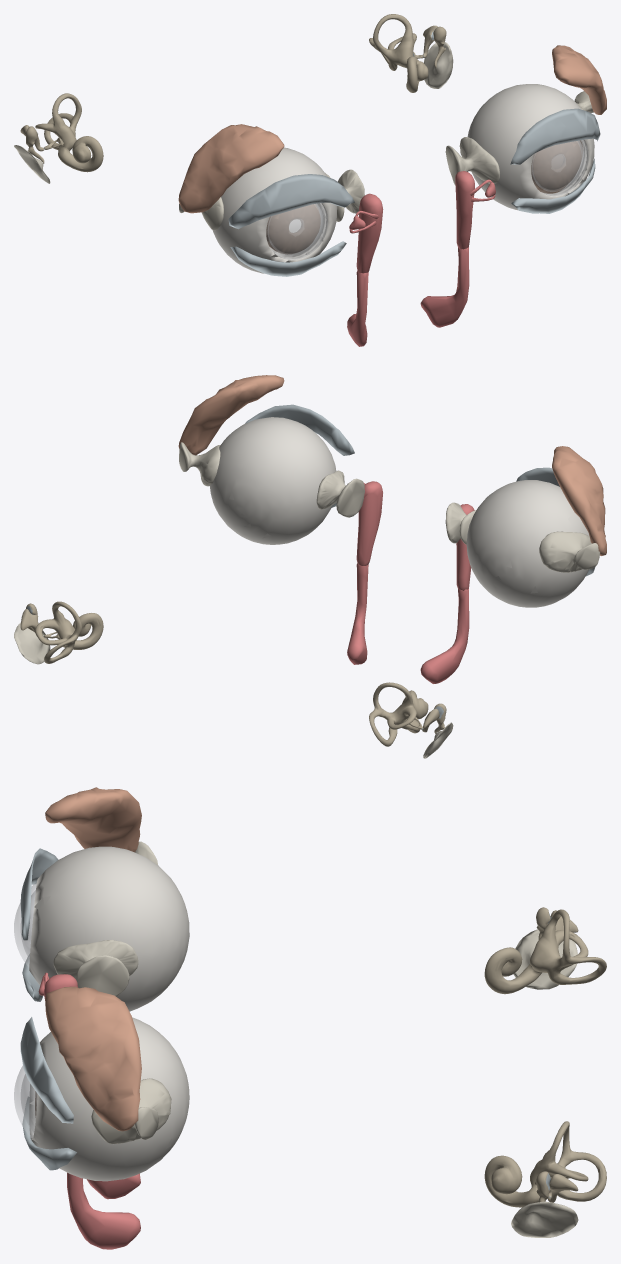
File: adult_male.sensory.LOD1.glb
3 views of the same model, one above another, from view 1: azimuth 30°, elevation 25°; view 2: azimuth 150°, elevation 25°; view 3: azimuth 270°, elevation 25° (orthographic). The views are drawn at different scales.
Parts seen in each view (by area): view 1: ADULT.MALE.SENSORY.SCLERA.L, ADULT.MALE.SENSORY.LACRIMAL_GLAND.R, ADULT.MALE.SENSORY.SCLERA.R, ADULT.MALE.SENSORY.SUPERIOR_TARSUS.R, ADULT.MALE.SENSORY.CORNEA.R, ADULT.MALE.SENSORY.SUPERIOR_TARSUS.L, ADULT.MALE.SENSORY.CORNEA.L, ADULT.MALE.SENSORY.ANTERIOR_CHAMBER_OF_EYEBALL.R, ADULT.MALE.SENSORY.ANTERIOR_CHAMBER_OF_EYEBALL.L, ADULT.MALE.SENSORY.LACRIMAL_GLAND.L, ADULT.MALE.SENSORY.IRIS.R, ADULT.MALE.SENSORY.SUSPENSORY_LIGAMENT_OF_EYEBALL.L (+14 smaller); view 2: ADULT.MALE.SENSORY.SCLERA.L, ADULT.MALE.SENSORY.SCLERA.R, ADULT.MALE.SENSORY.LACRIMAL_GLAND.L, ADULT.MALE.SENSORY.LACRIMAL_GLAND.R, ADULT.MALE.SENSORY.SUSPENSORY_LIGAMENT_OF_EYEBALL.R, ADULT.MALE.SENSORY.SUSPENSORY_LIGAMENT_OF_EYEBALL.L, ADULT.MALE.SENSORY.NASOLACRIMAL_DUCT.R, ADULT.MALE.SENSORY.SUPERIOR_TARSUS.L, ADULT.MALE.SENSORY.LACRIMAL_SAC.L, ADULT.MALE.SENSORY.VESTIBULE.L, ADULT.MALE.SENSORY.VESTIBULE.R, ADULT.MALE.SENSORY.NASOLACRIMAL_DUCT.L (+3 smaller); view 3: ADULT.MALE.SENSORY.SCLERA.R, ADULT.MALE.SENSORY.SCLERA.L, ADULT.MALE.SENSORY.LACRIMAL_GLAND.L, ADULT.MALE.SENSORY.LACRIMAL_GLAND.R, ADULT.MALE.SENSORY.SUSPENSORY_LIGAMENT_OF_EYEBALL.R, ADULT.MALE.SENSORY.VESTIBULE.R, ADULT.MALE.SENSORY.NASOLACRIMAL_DUCT.L, ADULT.MALE.SENSORY.SUSPENSORY_LIGAMENT_OF_EYEBALL.L, ADULT.MALE.SENSORY.VESTIBULE.L, ADULT.MALE.SENSORY.SUPERIOR_TARSUS.L, ADULT.MALE.SENSORY.TYMPANIC_MEMBRANE.L, ADULT.MALE.SENSORY.COCHLEA.L (+7 smaller).
Part boxes in pixels (bbox=[...]): ADULT.MALE.SENSORY.SCLERA.L: bbox=[467, 84, 594, 210]; ADULT.MALE.SENSORY.LACRIMAL_GLAND.R: bbox=[178, 124, 284, 213]; ADULT.MALE.SENSORY.SCLERA.R: bbox=[212, 147, 337, 273]; ADULT.MALE.SENSORY.SUPERIOR_TARSUS.R: bbox=[228, 174, 354, 229]; ADULT.MALE.SENSORY.CORNEA.R: bbox=[266, 203, 327, 259]; ADULT.MALE.SENSORY.SUPERIOR_TARSUS.L: bbox=[510, 108, 600, 164]; ADULT.MALE.SENSORY.CORNEA.L: bbox=[531, 140, 588, 195]; ADULT.MALE.SENSORY.ANTERIOR_CHAMBER_OF_EYEBALL.R: bbox=[268, 204, 323, 255]; ADULT.MALE.SENSORY.ANTERIOR_CHAMBER_OF_EYEBALL.L: bbox=[532, 141, 583, 191]; ADULT.MALE.SENSORY.LACRIMAL_GLAND.L: bbox=[552, 45, 606, 114]; ADULT.MALE.SENSORY.IRIS.R: bbox=[266, 204, 320, 254]; ADULT.MALE.SENSORY.SUSPENSORY_LIGAMENT_OF_EYEBALL.L: bbox=[445, 91, 593, 185]; ADULT.MALE.SENSORY.SCLERA.L: bbox=[209, 417, 336, 544]; ADULT.MALE.SENSORY.SCLERA.R: bbox=[466, 480, 589, 607]; ADULT.MALE.SENSORY.LACRIMAL_GLAND.L: bbox=[178, 375, 284, 455]; ADULT.MALE.SENSORY.LACRIMAL_GLAND.R: bbox=[552, 446, 606, 555]; ADULT.MALE.SENSORY.SUSPENSORY_LIGAMENT_OF_EYEBALL.R: bbox=[445, 502, 600, 572]; ADULT.MALE.SENSORY.SUSPENSORY_LIGAMENT_OF_EYEBALL.L: bbox=[179, 442, 364, 517]; ADULT.MALE.SENSORY.NASOLACRIMAL_DUCT.R: bbox=[420, 588, 469, 683]; ADULT.MALE.SENSORY.SUPERIOR_TARSUS.L: bbox=[245, 404, 354, 455]; ADULT.MALE.SENSORY.LACRIMAL_SAC.L: bbox=[356, 481, 382, 565]; ADULT.MALE.SENSORY.VESTIBULE.L: bbox=[35, 601, 81, 663]; ADULT.MALE.SENSORY.VESTIBULE.R: bbox=[369, 682, 416, 746]; ADULT.MALE.SENSORY.NASOLACRIMAL_DUCT.L: bbox=[347, 563, 368, 664]; ADULT.MALE.SENSORY.SCLERA.R: bbox=[29, 846, 189, 1011]; ADULT.MALE.SENSORY.SCLERA.L: bbox=[29, 1017, 189, 1181]; ADULT.MALE.SENSORY.LACRIMAL_GLAND.L: bbox=[45, 986, 141, 1131]; ADULT.MALE.SENSORY.LACRIMAL_GLAND.R: bbox=[45, 787, 141, 852]; ADULT.MALE.SENSORY.SUSPENSORY_LIGAMENT_OF_EYEBALL.R: bbox=[53, 841, 158, 996]; ADULT.MALE.SENSORY.VESTIBULE.R: bbox=[530, 909, 606, 984]; ADULT.MALE.SENSORY.NASOLACRIMAL_DUCT.L: bbox=[67, 1172, 140, 1249]; ADULT.MALE.SENSORY.SUSPENSORY_LIGAMENT_OF_EYEBALL.L: bbox=[91, 1078, 171, 1143]; ADULT.MALE.SENSORY.VESTIBULE.L: bbox=[530, 1121, 606, 1201]; ADULT.MALE.SENSORY.SUPERIOR_TARSUS.L: bbox=[20, 1017, 73, 1123]; ADULT.MALE.SENSORY.TYMPANIC_MEMBRANE.L: bbox=[511, 1201, 578, 1237]; ADULT.MALE.SENSORY.COCHLEA.L: bbox=[484, 1155, 539, 1207].
Size of the model in its own units: 0.1012 by 0.0571 by 0.0923.
